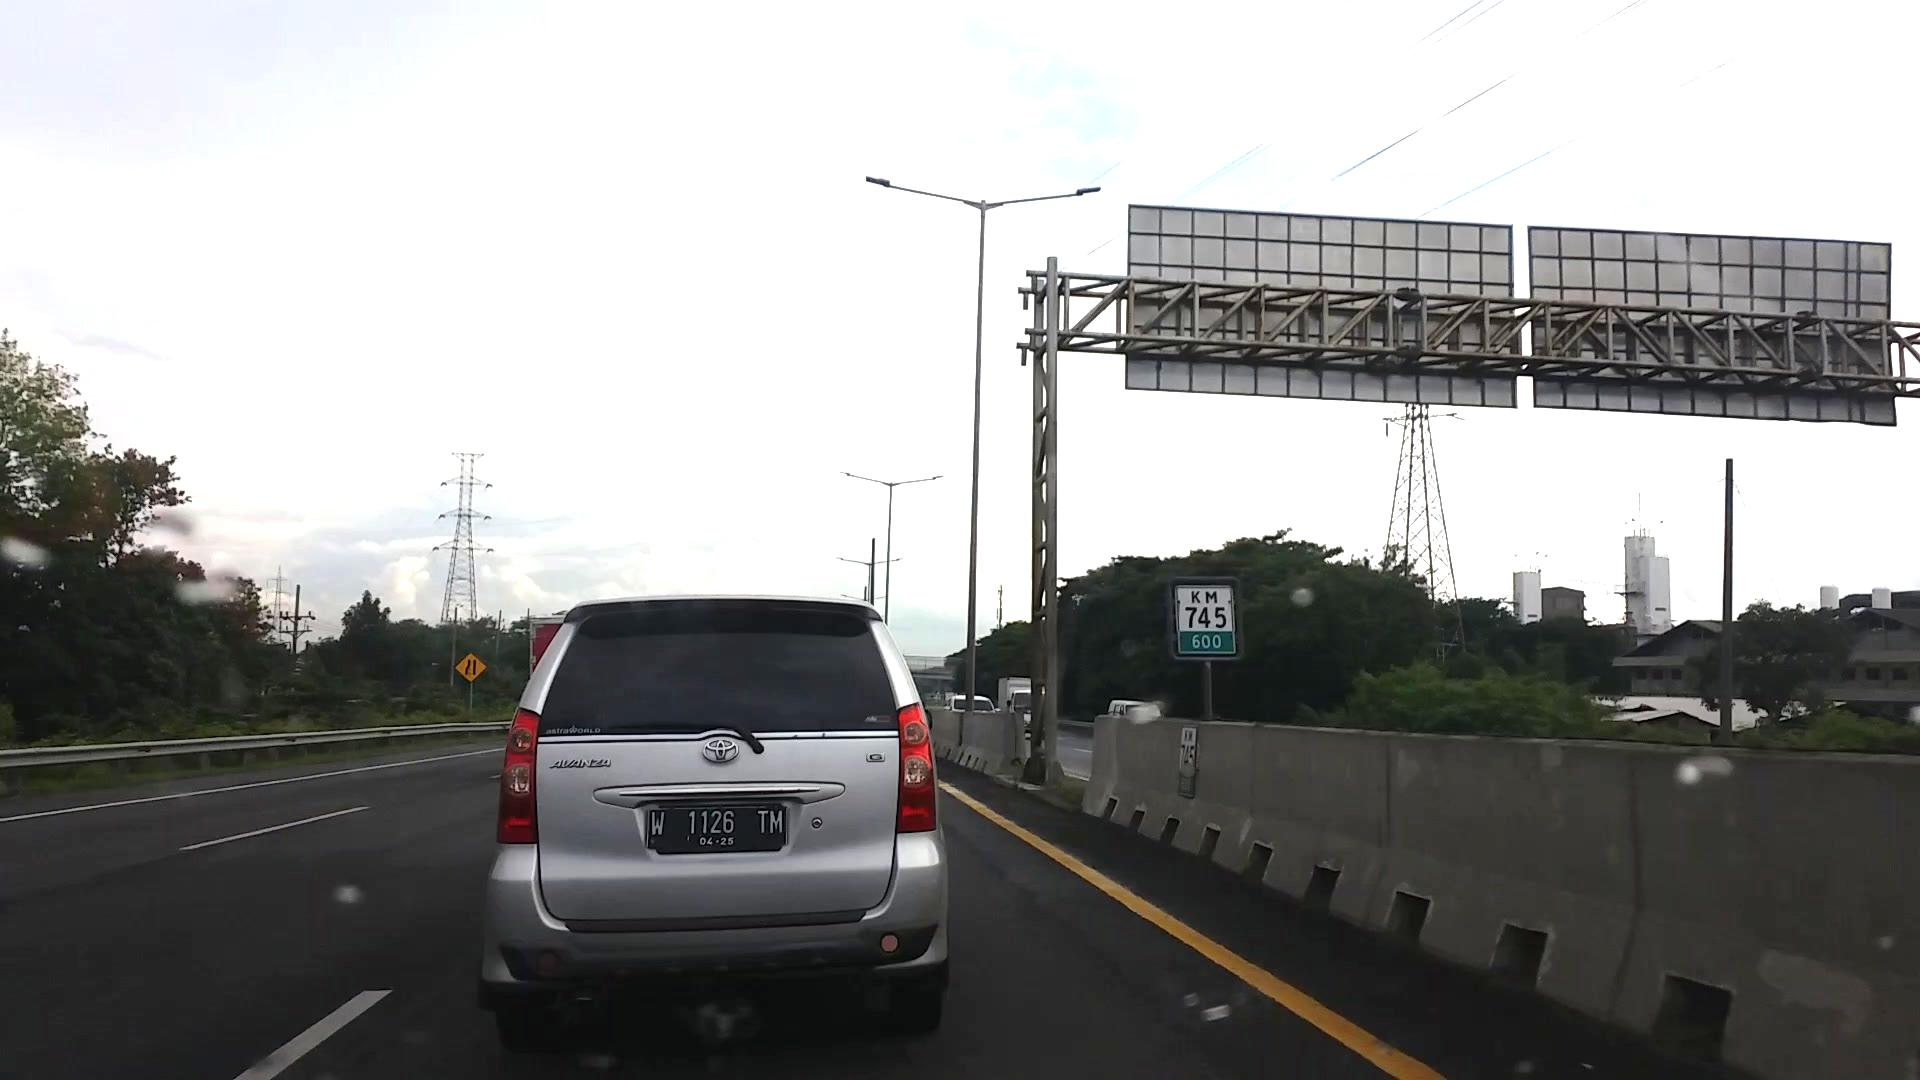plate_positive: (647, 804, 786, 853)
